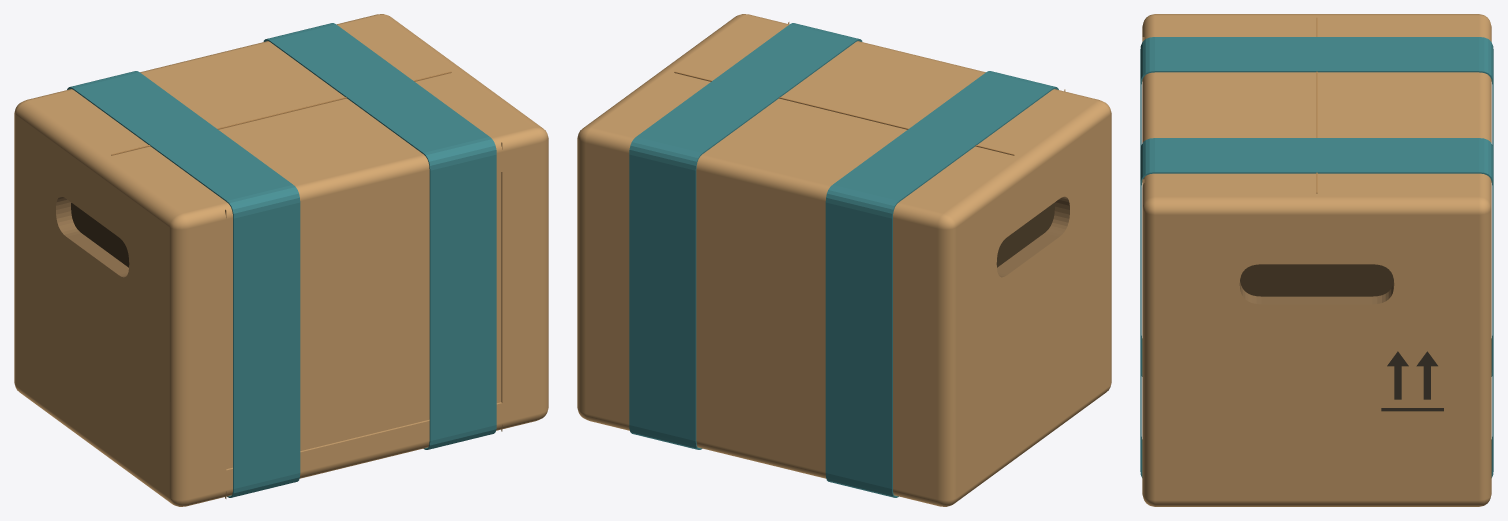
The model's file is play-parcel-large-teal.glb.
The picture shows the model from 3 angles, left to right: view 1: azimuth 30°, elevation 25°; view 2: azimuth 150°, elevation 25°; view 3: azimuth 270°, elevation 25°; orthographic projection. The views are drawn at different scales.
Visible parts, largest first — view 1: Parcel_Carton, Parcel_Tape_Parallel_2, Parcel_Tape_Parallel_1, Parcel_Carry_Slot_Walls_Negative_X, Parcel_Carry_Slot_Interior_Negative_X; view 2: Parcel_Carton, Parcel_Tape_Parallel_2, Parcel_Tape_Parallel_1, Parcel_Carry_Slot_Walls_Negative_X, Parcel_Carry_Slot_Interior_Negative_X; view 3: Parcel_Carton, Parcel_Tape_Parallel_2, Parcel_Tape_Parallel_1, Parcel_Carry_Slot_Interior_Positive_X, Parcel_Carry_Slot_Walls_Positive_X, Parcel_Up_Arrows_Positive_X.
Boxes of the visible parts, <box> form: Parcel_Carton: <box>14,14,548,506</box>; Parcel_Tape_Parallel_2: <box>263,23,496,449</box>; Parcel_Tape_Parallel_1: <box>67,71,300,497</box>; Parcel_Carry_Slot_Walls_Negative_X: <box>56,196,128,277</box>; Parcel_Carry_Slot_Interior_Negative_X: <box>71,203,129,267</box>; Parcel_Carton: <box>577,14,1111,506</box>; Parcel_Tape_Parallel_2: <box>629,23,862,449</box>; Parcel_Tape_Parallel_1: <box>825,71,1058,497</box>; Parcel_Carry_Slot_Walls_Negative_X: <box>997,196,1069,277</box>; Parcel_Carry_Slot_Interior_Negative_X: <box>996,203,1054,267</box>; Parcel_Carton: <box>1142,14,1491,506</box>; Parcel_Tape_Parallel_2: <box>1140,138,1493,477</box>; Parcel_Tape_Parallel_1: <box>1140,37,1493,376</box>; Parcel_Carry_Slot_Interior_Positive_X: <box>1240,264,1393,296</box>; Parcel_Carry_Slot_Walls_Positive_X: <box>1239,282,1394,304</box>; Parcel_Up_Arrows_Positive_X: <box>1381,351,1443,411</box>.
Bounding box in the file's own units: 0.2503 × 0.187 × 0.192.
